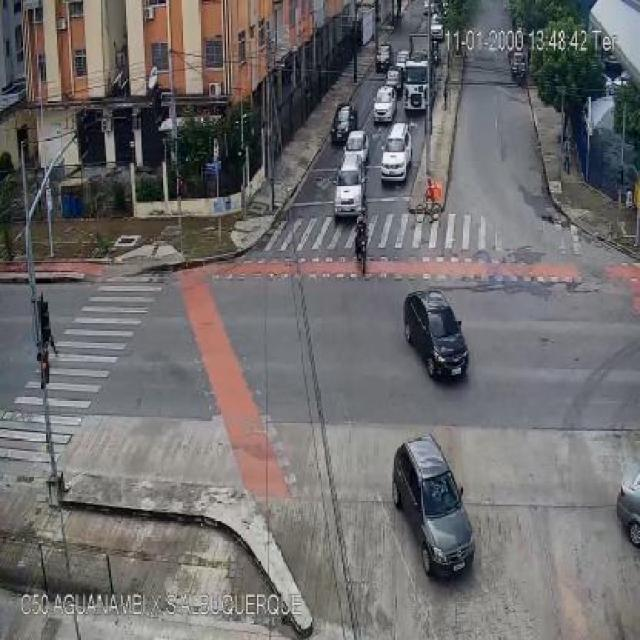Car: (392, 437, 473, 578), (404, 289, 469, 385), (381, 124, 414, 181), (334, 169, 366, 218), (330, 103, 358, 145), (342, 130, 370, 168), (372, 85, 398, 123), (384, 68, 404, 92), (394, 50, 410, 77), (430, 12, 444, 40)
Truck: (405, 32, 438, 112)
